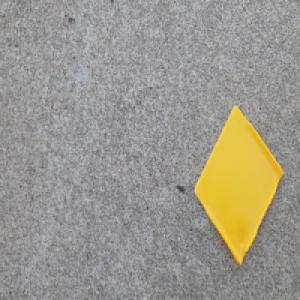PlasticPart: (193, 103, 284, 267)
